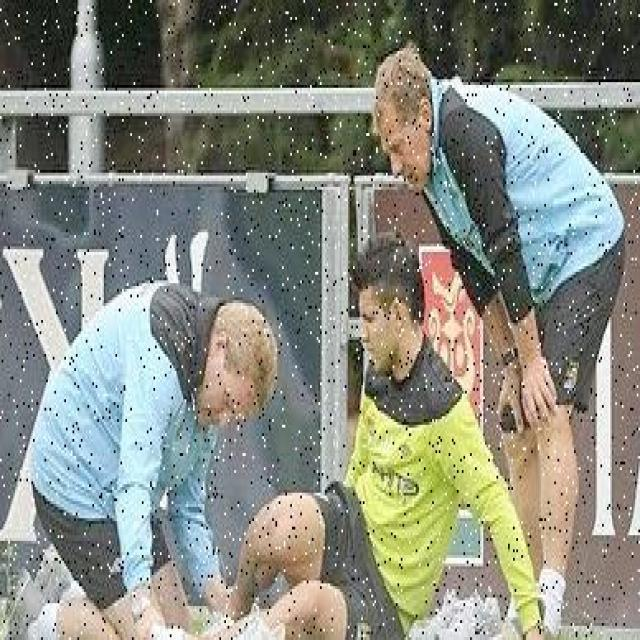fall: (243, 227, 475, 638)
